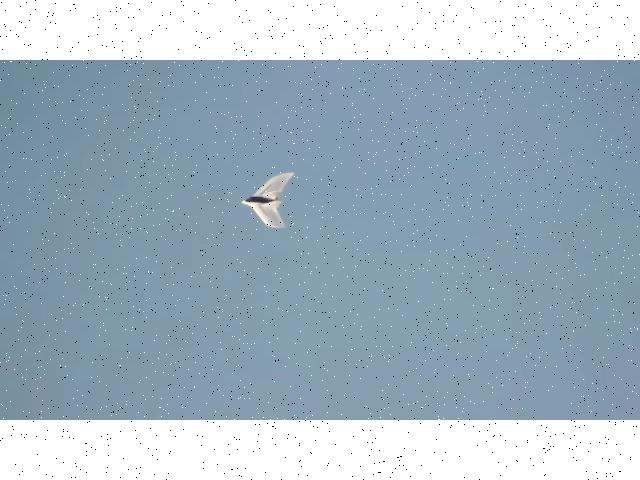Anti-Drone: (242, 173, 294, 226)
